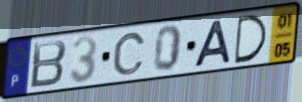0: (153, 23, 184, 75)
3: (68, 33, 100, 87)
A: (191, 18, 234, 69)
B: (28, 38, 68, 91)
C: (111, 31, 147, 77)
D: (233, 13, 270, 66)
